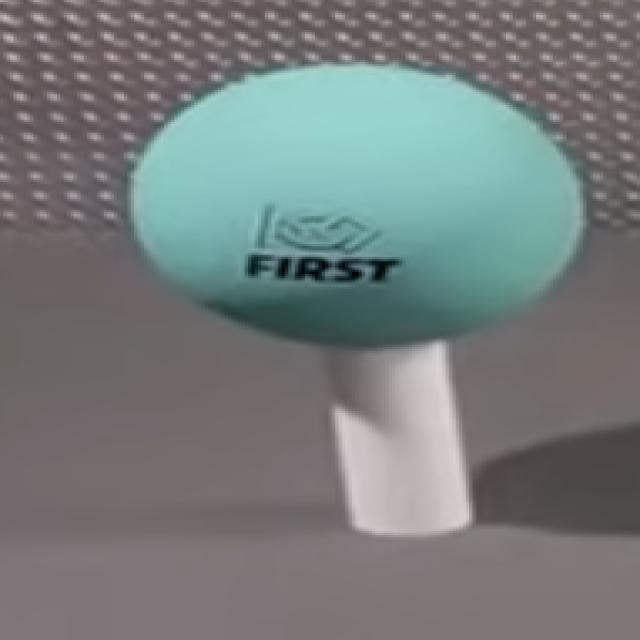Algae: (126, 65, 582, 349)
Coral: (328, 339, 474, 538)
